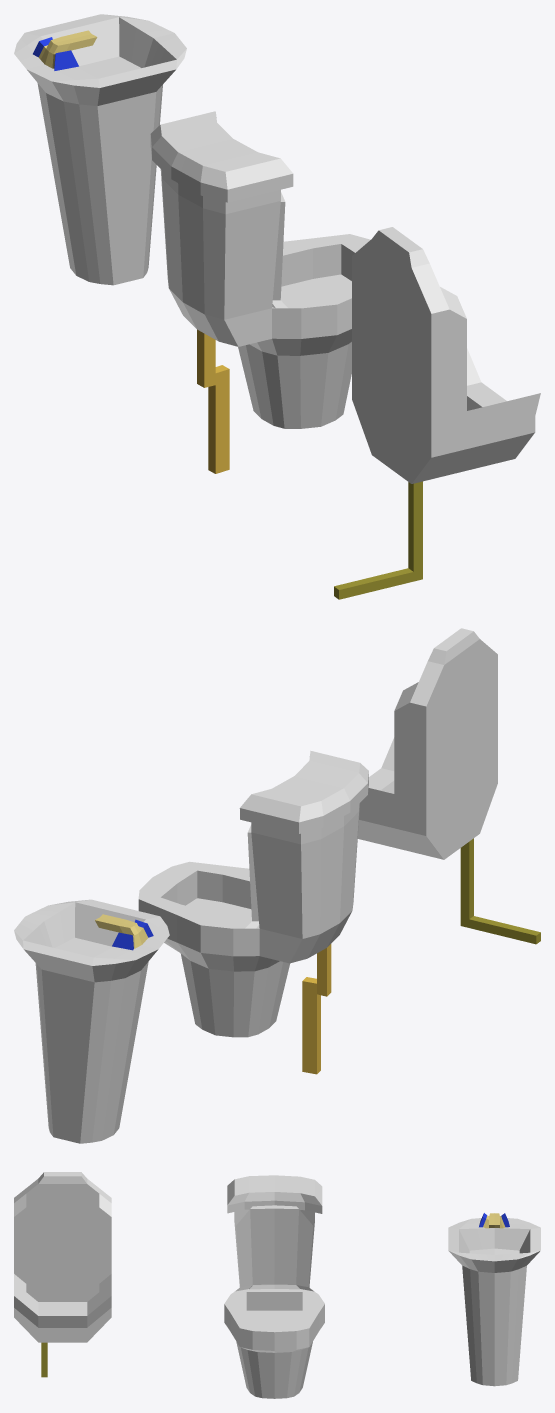
The model's file is TapUrinalToilet.fbx.
3 renders of one model, top to bottom at view 1: azimuth 30°, elevation 25°; view 2: azimuth 150°, elevation 25°; view 3: azimuth 270°, elevation 25°, orthographic. The views are drawn at different scales.
Parts seen in each view (by area): view 1: Cube.001, Cube, Cube.002; view 2: Cube.001, Cube, Cube.002; view 3: Cube.001, Cube, Cube.002.
Part boxes in pixels (x1,y1,x2,y2): Cube.001: (150,111,369,473); Cube: (334,227,540,599); Cube.002: (14,14,186,285); Cube.001: (138,750,368,1074); Cube: (357,628,540,944); Cube.002: (14,899,169,1143); Cube.001: (224,1175,324,1398); Cube: (14,1172,111,1377); Cube.002: (448,1213,540,1386).
Size of the model in its own units: 352 by 489 by 1080.
